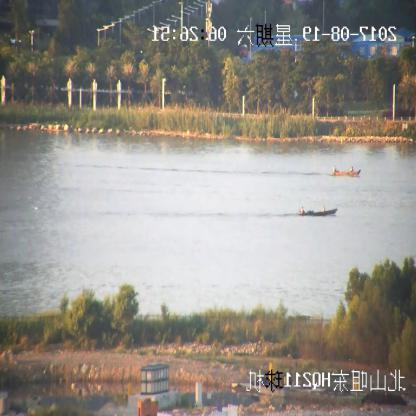Fishing Boat: (298, 205, 337, 218), (334, 166, 361, 177)
